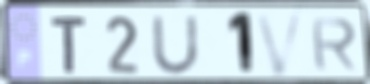1: (224, 10, 257, 80)
2: (104, 14, 141, 76)
R: (309, 16, 359, 73)
T: (48, 15, 90, 76)
U: (148, 14, 203, 77)
V: (252, 10, 309, 78)
